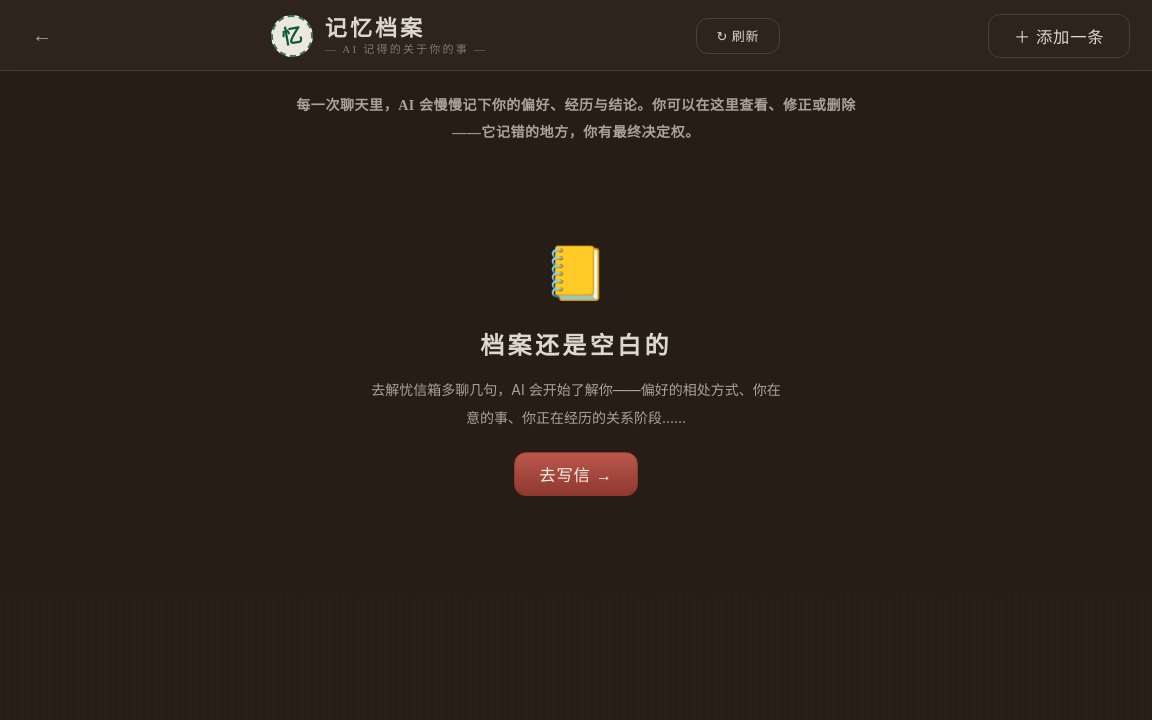
Test: MemoryArchive.vue › 新增失败：透传后端 message 并标红，添加态必须收敛（可重试）
Click the button "＋ 添加一条".
click(1059, 36)  # box [988, 14, 1130, 58]
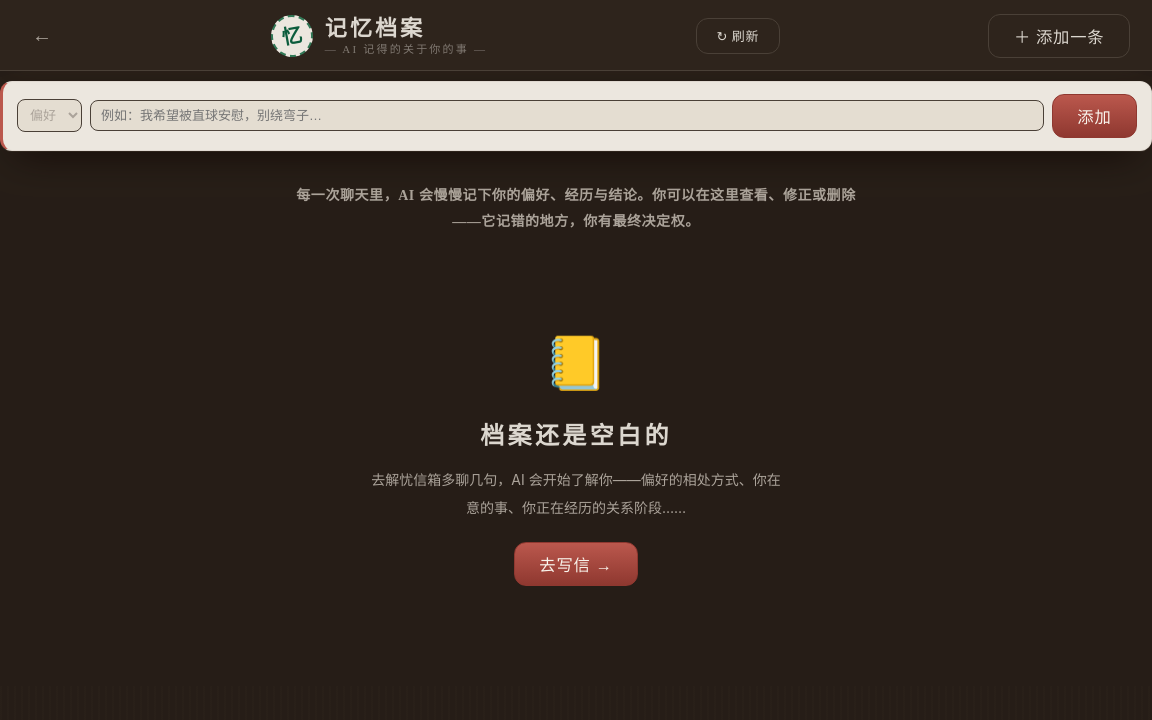
Type "会被拒绝的内容" into the field with class "add-input".
click(567, 116); type("会被拒绝的内容")  # box [90, 100, 1044, 131]
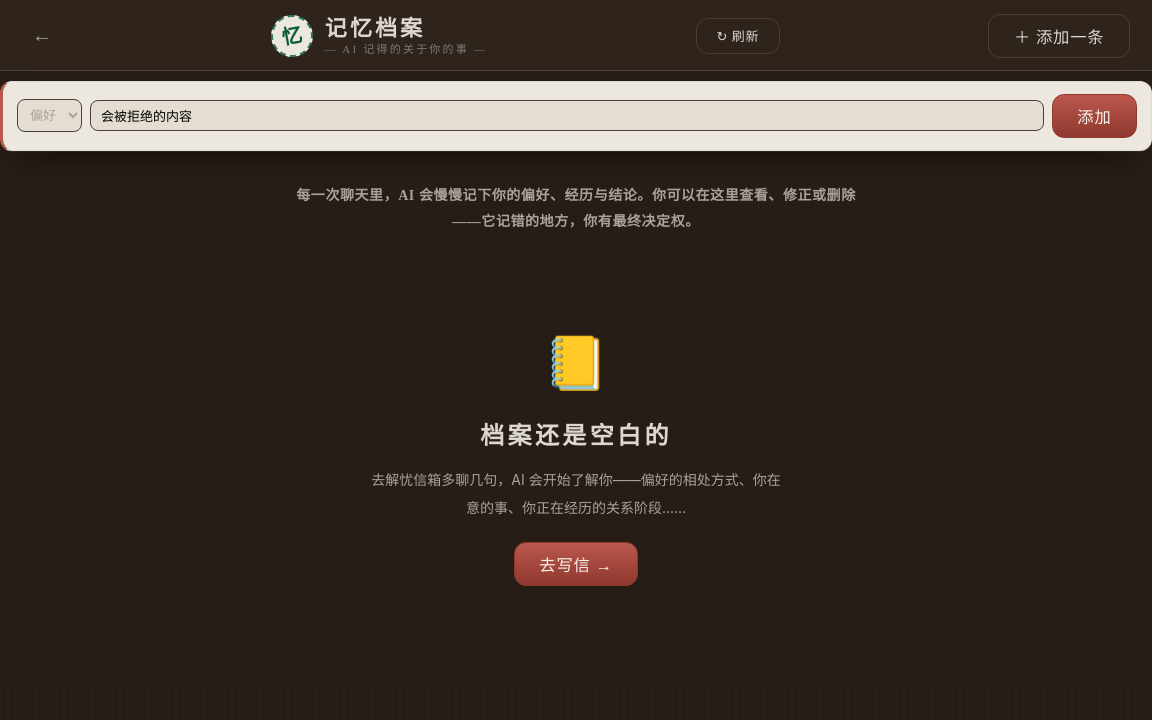
Click the button with class "btn-hand" showing "添加".
click(1094, 116)  # box [1052, 94, 1137, 138]
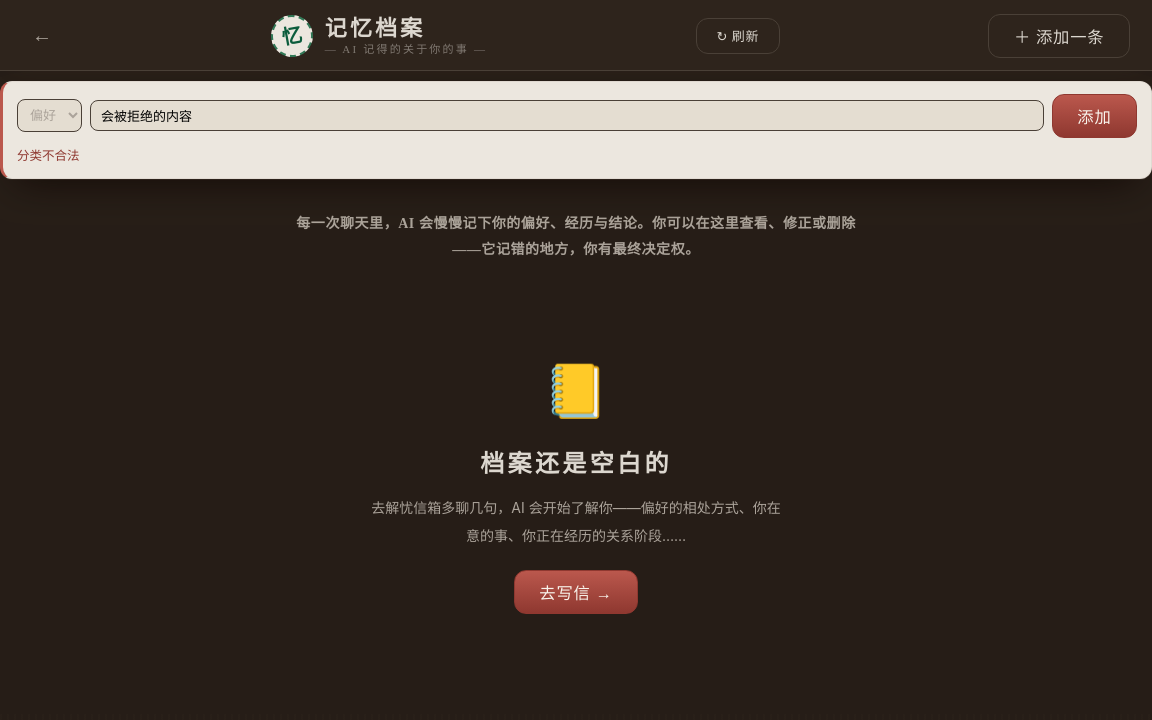
Now the button with class "btn-hand" reads "添加", box [1052, 94, 1137, 138]
Now the text with class "add-msg" reads "分类不合法", box [17, 148, 80, 163]
